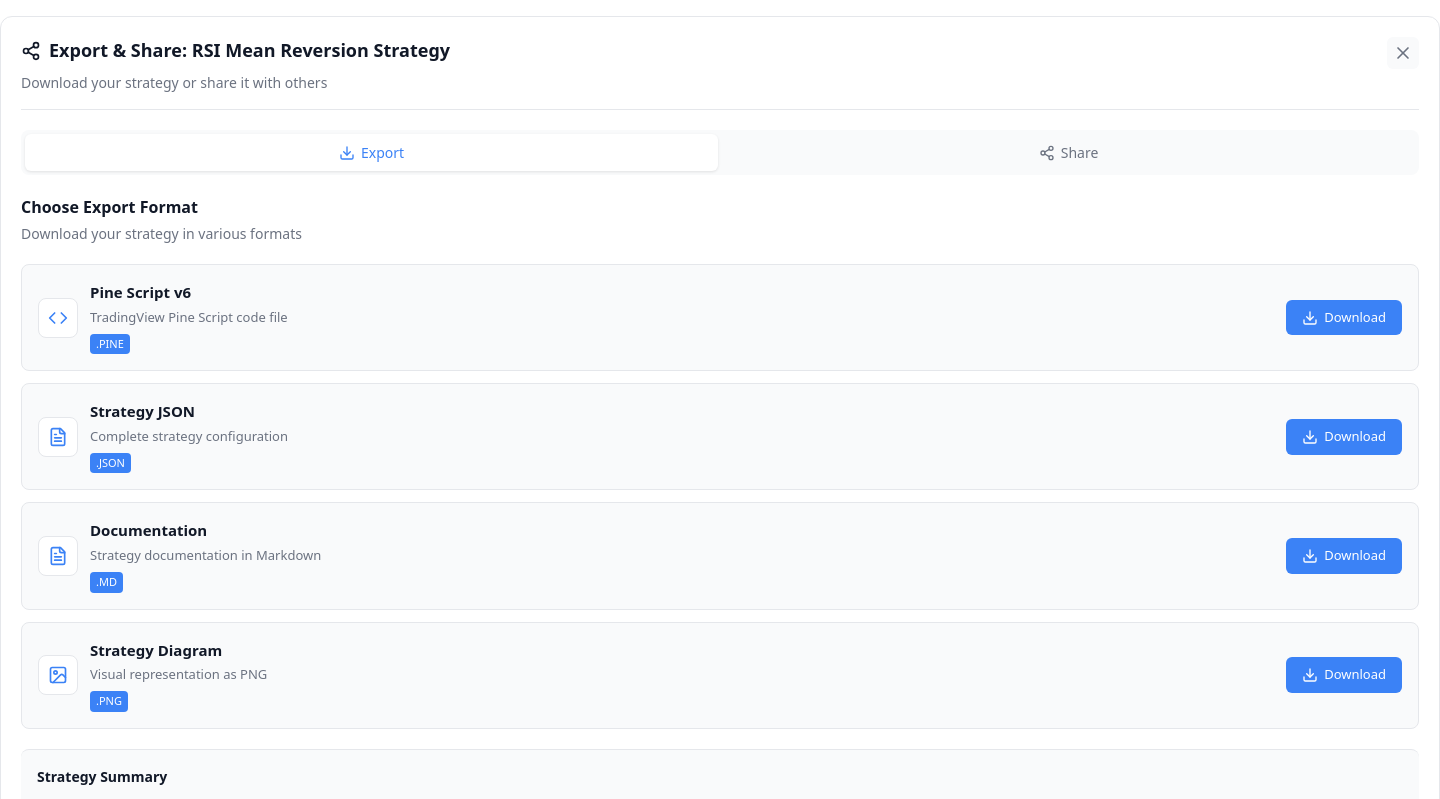
StrategyExporter Component › shows share options in share tab
Click on Share tab
Click the button "Share": (1068, 152) [722,134,1415,171]
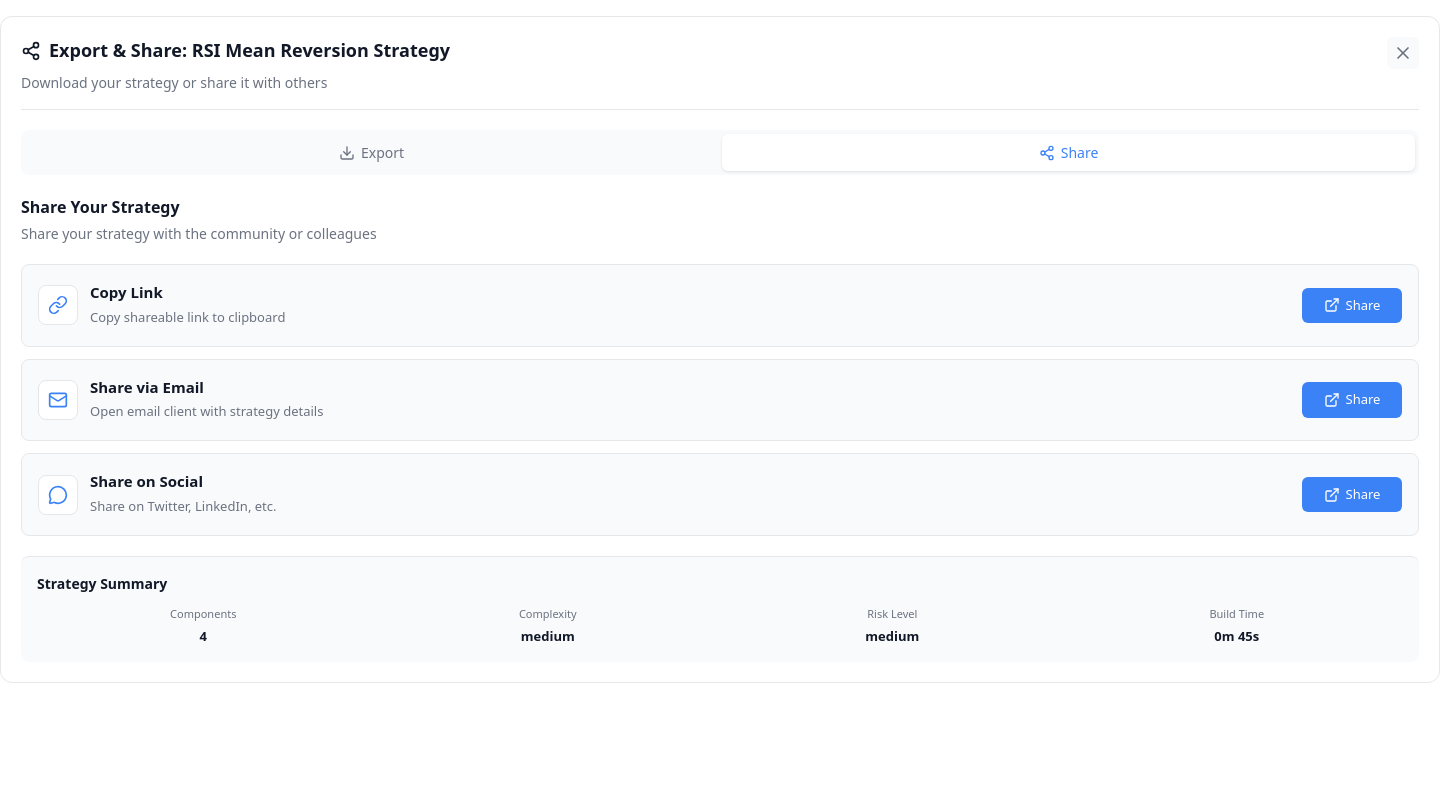
Check: the heading "Copy Link" is shown, box [90,282,163,302]
Check: the heading "Share via Email" is shown, box [90,377,204,397]
Check: the heading "Share on Social" is shown, box [90,471,203,491]
